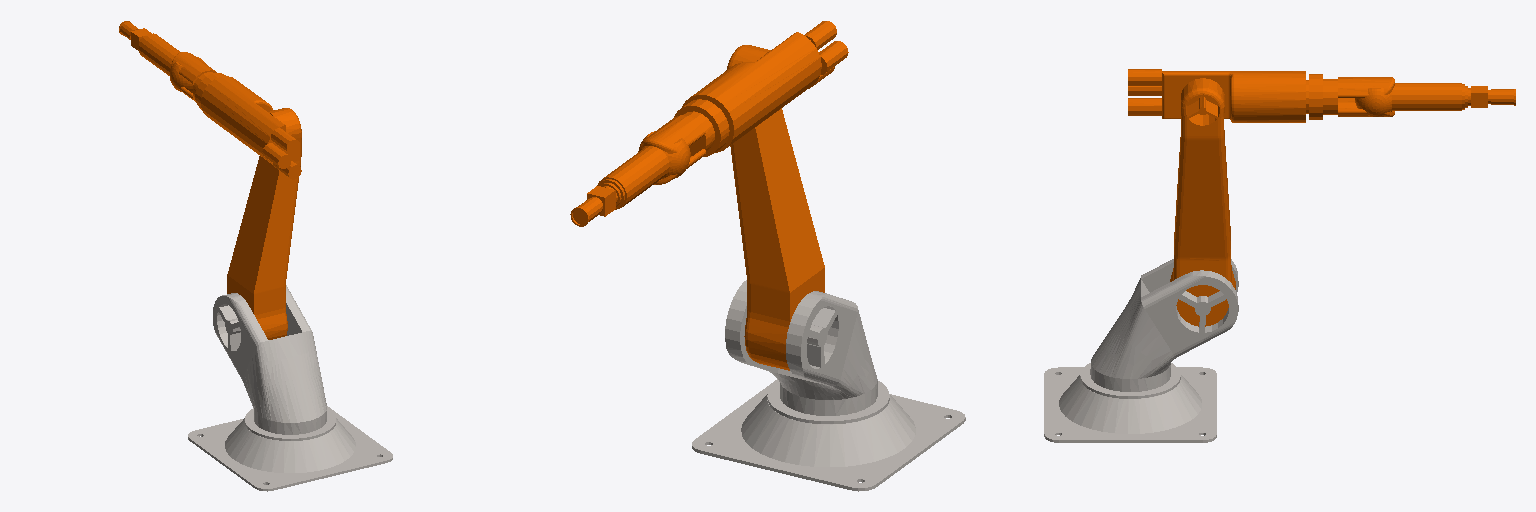
robot.urdf — robot:
<robot
  name="robot">
  <link name="world"/>
  <joint name="joint_fix" type="fixed">
    <parent link="world"/>
    <child link="base_link"/>
  </joint>
  <link
    name="base_link">
    <inertial>
      <origin
        xyz="0.158521271152247 0.249959501847145 0.530785966844897"
        rpy="0 0 0" />
      <mass
        value="17.8923575005348" />
      <inertia
        ixx="0"
        ixy="0"
        ixz="0"
        iyy="0"
        iyz="0"
        izz="0" />
    </inertial>
    <visual>
      <origin
        xyz="0 0 0"
        rpy="0 0 0" />
      <geometry>
        <mesh
          filename="package://robot/meshes/base_link.STL" />
      </geometry>
      <material
        name="">
        <color
          rgba="0.780392156862745 0.76078431372549 0.741176470588235 1" />
      </material>
    </visual>
    <collision>
      <origin
        xyz="0 0 0"
        rpy="0 0 0" />
      <geometry>
        <mesh
          filename="package://robot/meshes/base_link.STL" />
      </geometry>
    </collision>
  </link>
  <gazebo reference="base_link">
    <material>Gazebo/Black</material>
  </gazebo>
  <link
    name="link1">
    <inertial>
      <origin
        xyz="1.68454688698194E-07 0.164275740780367 -0.0669943121573496"
        rpy="0 0 0" />
      <mass
        value="19.3943177662416" />
      <inertia
        ixx="0"
        ixy="0"
        ixz="0"
        iyy="0"
        iyz="0"
        izz="0" />
    </inertial>
    <visual>
      <origin
        xyz="0 0 0"
        rpy="0 0 0" />
      <geometry>
        <mesh
          filename="package://robot/meshes/link1.STL" />
      </geometry>
      <material
        name="">
        <color
          rgba="0.780392156862745 0.76078431372549 0.741176470588235 1" />
      </material>
    </visual>
    <collision>
      <origin
        xyz="0 0 0"
        rpy="0 0 0" />
      <geometry>
        <mesh
          filename="package://robot/meshes/link1.STL" />
      </geometry>
    </collision>
  </link>
  <gazebo reference="link1">
    <material>Gazebo/Yellow</material>
  </gazebo>
  <joint
    name="joint1"
    type="revolute">
    <origin
      xyz="0.158521265718797 -0.530785793967691 0.315563406285809"
      rpy="1.5707963267949 0 0" />
    <parent
      link="base_link" />
    <child
      link="link1" />
    <axis
      xyz="0 1 0" />
    <limit effort="100" velocity="100" lower="0" upper="3.1416"/>
  </joint>
  <link
    name="link2">
    <inertial>
      <origin
        xyz="0.0328384782772146 0.274326458730004 3.31401572850609E-14"
        rpy="0 0 0" />
      <mass
        value="20.8227875150365" />
      <inertia
        ixx="0"
        ixy="0"
        ixz="0"
        iyy="0"
        iyz="0"
        izz="0" />
    </inertial>
    <visual>
      <origin
        xyz="0 0 0"
        rpy="0 0 0" />
      <geometry>
        <mesh
          filename="package://robot/meshes/link2.STL" />
      </geometry>
      <material
        name="">
        <color
          rgba="0.909803921568627 0.443137254901961 0.0313725490196078 1" />
      </material>
    </visual>
    <collision>
      <origin
        xyz="0 0 0"
        rpy="0 0 0" />
      <geometry>
        <mesh
          filename="package://robot/meshes/link2.STL" />
      </geometry>
    </collision>
  </link>
  <gazebo reference="link2">
    <material>Gazebo/Yellow</material>
  </gazebo>
  <joint
    name="joint2"
    type="revolute">
    <origin
      xyz="0 0.322732802998902 -0.250383739680009"
      rpy="0 0 0" />
    <parent
      link="link1" />
    <child
      link="link2" />
    <axis
      xyz="1 0 0" />
    <limit effort="100" velocity="100" lower="0" upper="3.1416"/>
  </joint>
  <link
    name="link3">
    <inertial>
      <origin
        xyz="0.0361839079462923 2.09127868135983E-05 -0.185012067507171"
        rpy="0 0 0" />
      <mass
        value="13.649633544176" />
      <inertia
        ixx="0"
        ixy="0"
        ixz="0"
        iyy="0"
        iyz="0"
        izz="0" />
    </inertial>
    <visual>
      <origin
        xyz="0 0 0"
        rpy="0 0 0" />
      <geometry>
        <mesh
          filename="package://robot/meshes/link3.STL" />
      </geometry>
      <material
        name="">
        <color
          rgba="0.909803921568627 0.443137254901961 0.0313725490196078 1" />
      </material>
    </visual>
    <collision>
      <origin
        xyz="0 0 0"
        rpy="0 0 0" />
      <geometry>
        <mesh
          filename="package://robot/meshes/link3.STL" />
      </geometry>
    </collision>
  </link>
  <gazebo reference="link3">
    <material>Gazebo/Yellow</material>
  </gazebo>
  <joint
    name="joint3"
    type="revolute">
    <origin
      xyz="0 0.777773579919563 0"
      rpy="0 0 0" />
    <parent
      link="link2" />
    <child
      link="link3" />
    <axis
      xyz="1 0 0" />
    <limit effort="100" velocity="100" lower="0" upper="3.1416"/>
  </joint>
  <link
    name="link4">
    <inertial>
      <origin
        xyz="0 2.77555756156289E-17 -0.143700987107576"
        rpy="0 0 0" />
      <mass
        value="3.83524054978555" />
      <inertia
        ixx="0"
        ixy="0"
        ixz="0"
        iyy="0"
        iyz="0"
        izz="0" />
    </inertial>
    <visual>
      <origin
        xyz="0 0 0"
        rpy="0 0 0" />
      <geometry>
        <mesh
          filename="package://robot/meshes/link4.STL" />
      </geometry>
      <material
        name="">
        <color
          rgba="0.909803921568627 0.443137254901961 0.0313725490196078 1" />
      </material>
    </visual>
    <collision>
      <origin
        xyz="0 0 0"
        rpy="0 0 0" />
      <geometry>
        <mesh
          filename="package://robot/meshes/link4.STL" />
      </geometry>
    </collision>
  </link>
  <gazebo reference="link4">
    <material>Gazebo/Red</material>
  </gazebo>
  <joint
    name="joint4"
    type="revolute">
    <origin
      xyz="0.0483407685108505 0 -0.603280829801762"
      rpy="0 0 -1.5707963267949" />
    <parent
      link="link3" />
    <child
      link="link4" />
    <axis
      xyz="-1 0 0" />
    <limit effort="100" velocity="100" lower="0" upper="3.1416"/>
  </joint>
</robot>

--- What the picture shows (computed from the rendered views, not written in the file) ---
The picture shows the robot from 3 angles, left to right: view 1: azimuth 30°, elevation 25°; view 2: azimuth 150°, elevation 25°; view 3: azimuth 270°, elevation 25°; orthographic projection.
Model robot with 6 links and 5 joints (4 revolute, 1 fixed), rooted at world, posed every joint at zero.
Links seen in each view (by area): view 1: link1, link2, base_link, link3, link4; view 2: link2, base_link, link1, link3, link4; view 3: link1, link2, base_link, link3, link4.
Boxes of the visible links, x1,y1,x2,y2 form: link1: (213, 285, 335, 440); link2: (227, 108, 301, 339); base_link: (188, 406, 392, 491); link3: (172, 52, 301, 179); link4: (119, 21, 205, 92); link2: (726, 45, 824, 370); base_link: (692, 379, 965, 491); link1: (725, 280, 889, 423); link3: (641, 21, 848, 184); link4: (570, 131, 690, 226); link1: (1080, 259, 1238, 398); link2: (1170, 78, 1235, 326); base_link: (1044, 367, 1216, 442); link3: (1128, 69, 1394, 122); link4: (1355, 83, 1515, 116).
Bounding box of the posed robot: 0.6 × 1.64 × 1.3 m (x, y, z).
5 mesh visuals loaded from 5 distinct referenced files (5 binary STL).